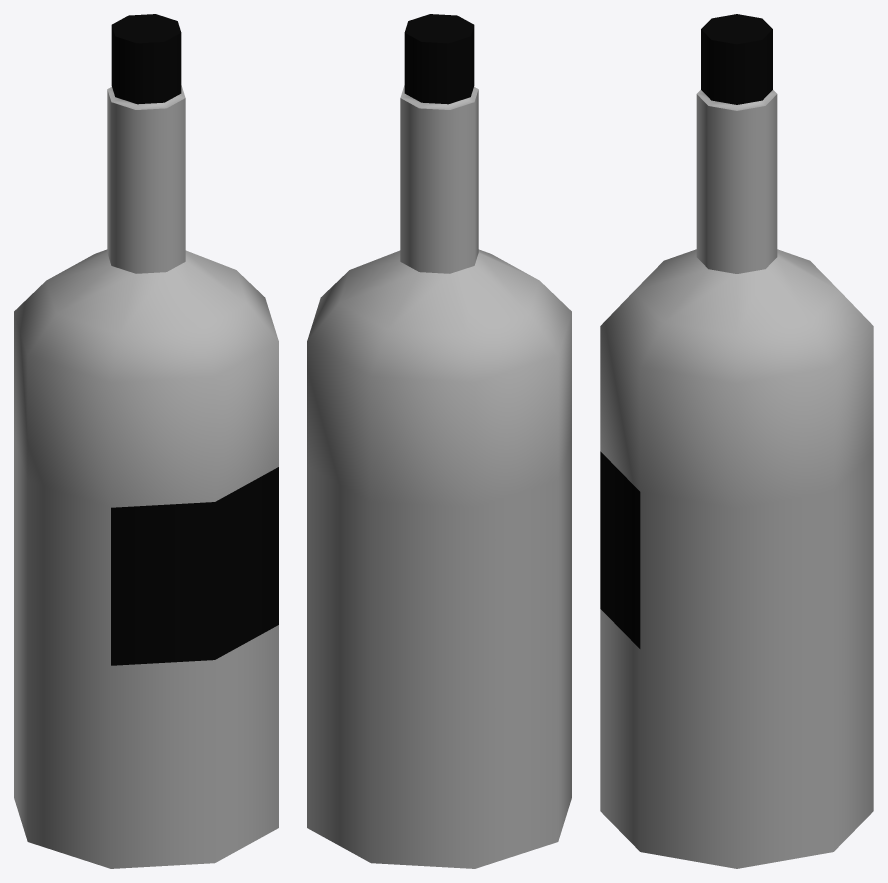
File: Prop_WineBottle.fbx
3 views of the same model, side by side, from view 1: azimuth 30°, elevation 25°; view 2: azimuth 150°, elevation 25°; view 3: azimuth 270°, elevation 25° (orthographic).
Parts seen in each view (by area): view 1: Prop_WineBottle; view 2: Prop_WineBottle; view 3: Prop_WineBottle.
Part boxes in pixels (<box>): Prop_WineBottle: <box>14,14,278,868</box>; Prop_WineBottle: <box>307,14,571,868</box>; Prop_WineBottle: <box>600,14,873,868</box>.
Size of the model in its own units: 17.27 by 54.47 by 17.27.
